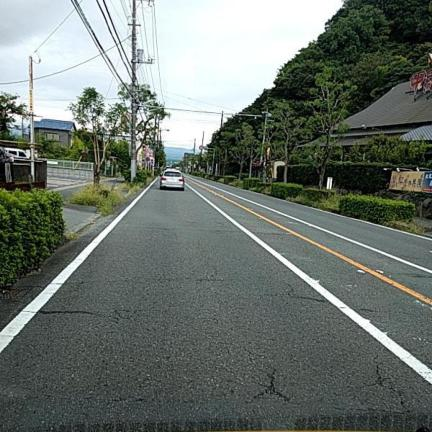Road: (0, 178, 431, 430)
